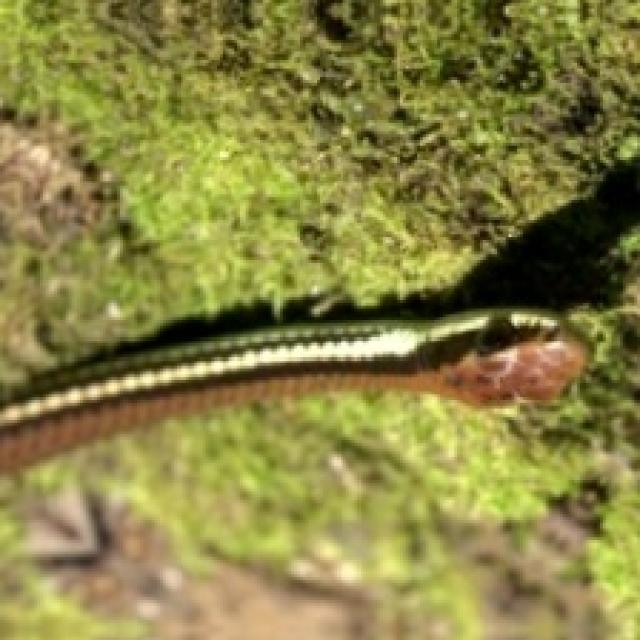philippine bronzeback treesnake: (0, 309, 586, 469)
